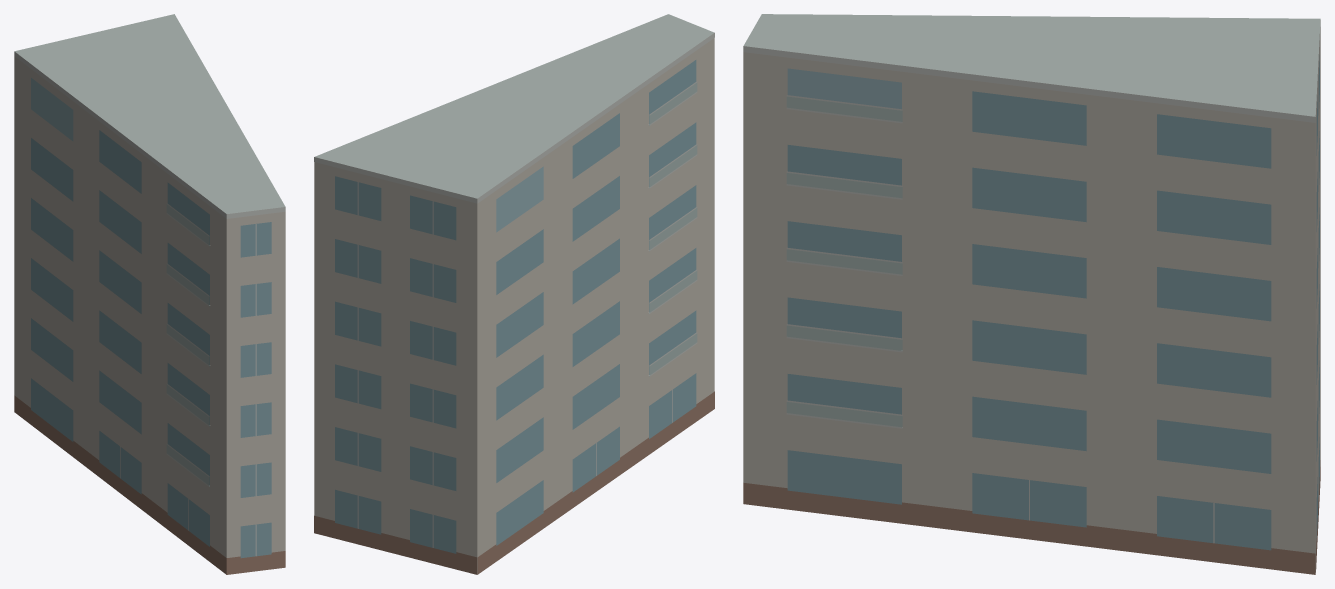
File: survey-upis-32775337.glb
3 views of the same model, side by side, from view 1: azimuth 30°, elevation 25°; view 2: azimuth 150°, elevation 25°; view 3: azimuth 270°, elevation 25° (orthographic). The views are drawn at different scales.
Visible parts, largest first — view 1: survey-upis-32775337.tmp; view 2: survey-upis-32775337.tmp; view 3: survey-upis-32775337.tmp.
Part boxes in pixels (x1,y1,x2,y2): survey-upis-32775337.tmp: [14, 14, 285, 574]; survey-upis-32775337.tmp: [314, 14, 714, 574]; survey-upis-32775337.tmp: [743, 14, 1320, 574].
Bounding box in the file's own units: 8.83 × 18.3 × 20.91.
